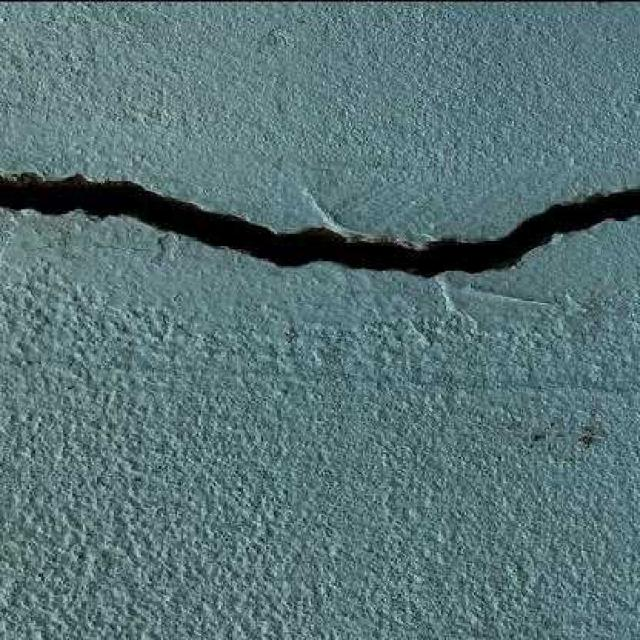D00: (0, 167, 640, 278)
